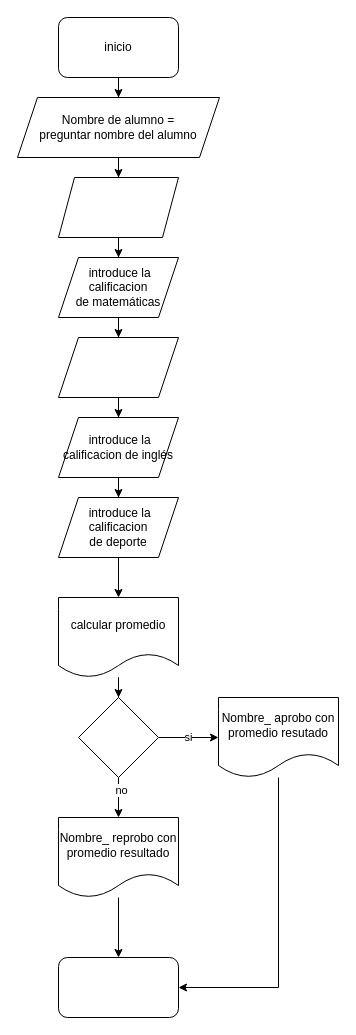
The diagram is 356 pixels wide and 1035 high, and some of its shapes have lost their labels. The centre of each missing label's shape, as x and y in pixels:
Fin: [118,987]
introduce la calificacion de español: [118,207]
introduce la calificacion de historia,: [118,367]
Resultado” aprobó “?: [118,737]
